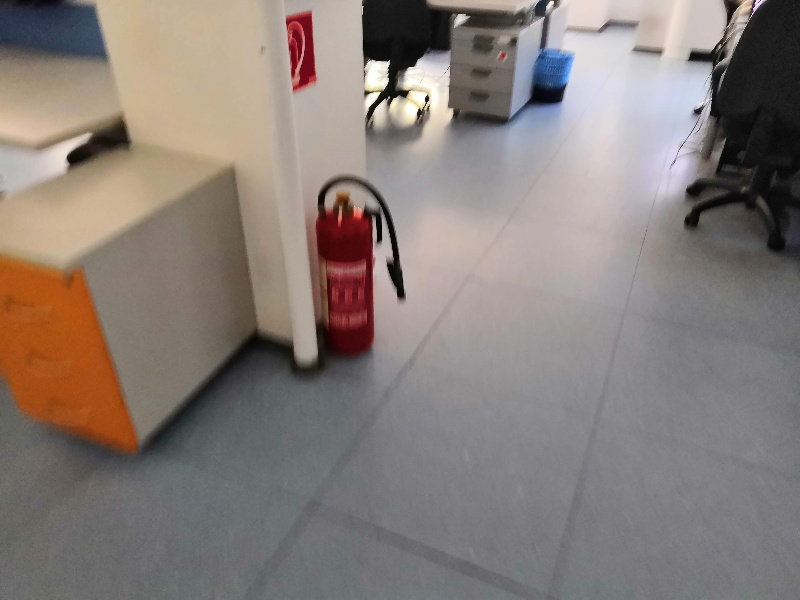vataparat: (315, 177, 406, 353)
